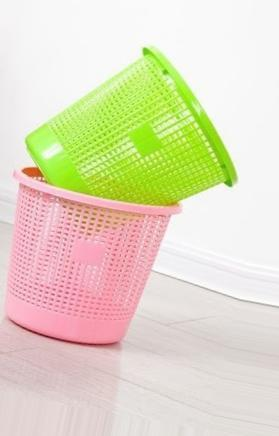Bote de Basura: (21, 44, 244, 233), (8, 163, 190, 344)
